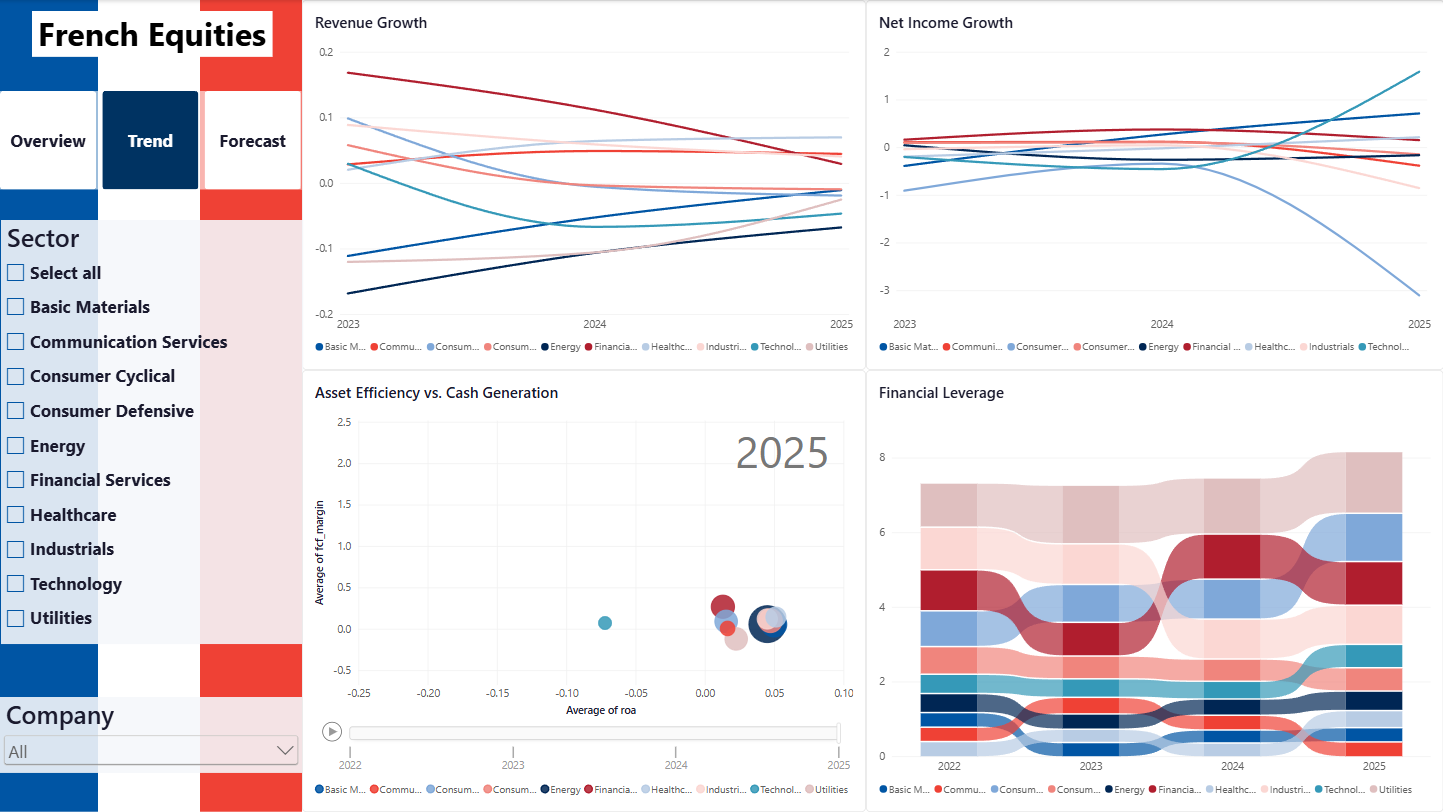

The dashboard page shown, as its layout file describes it:
{"tool":"powerbi","page":{"name":"Trend","canvas":[1920,1080],"ordinal":1},"visuals":[{"type":"lineChart","title":"Net Income Growth","fields":{"Category":["financial_ratios.fiscal_year"],"Series":["companies.sector"],"Y":["Avg(financial_ratios.net_income_growth_yoy)"]},"box":[1151.8,0,768.8,492.1],"z":0},{"type":"lineChart","title":"Revenue Growth","fields":{"Category":["financial_ratios.fiscal_year"],"Series":["companies.sector"],"Y":["Avg(financial_ratios.revenue_growth_yoy)"]},"box":[401.7,0,750.1,492.1],"z":1000},{"type":"shape","box":[0,0,135,1079.6],"z":2000},{"type":"shape","box":[129.8,0,135.7,1079.6],"z":3000},{"type":"shape","box":[265.5,0,135.7,1079.6],"z":4000},{"type":"pageNavigator","box":[0,121,401.2,131.3],"z":5000},{"type":"textbox","box":[42.3,14.6,319.5,61.3],"z":6000},{"type":"slicer","fields":{"Values":["companies.company_name"]},"box":[0,927,401.7,101.1],"z":7000},{"type":"slicer","fields":{"Values":["companies.sector"]},"box":[1.3,292.6,401.7,563.9],"z":8000},{"type":"scatterChart","title":"Asset Efficiency vs. Cash Generation","fields":{"Play":["financial_ratios.fiscal_year"],"Series":["companies.sector"],"Size":["Avg(companies.market_cap)"],"X":["Avg(financial_ratios.roa)"],"Y":["Avg(financial_ratios.fcf_margin)"]},"box":[401.7,492.1,750.1,587.9],"z":9000},{"type":"ribbonChart","title":"Financial Leverage","fields":{"Category":["financial_ratios.fiscal_year"],"Series":["companies.sector"],"Y":["Avg(financial_ratios.debt_to_equity)"]},"box":[1152,492,768,588],"z":10000}]}

Visuals, with their boxes in screenshot pixels (x1, y1, x2, y2), scaled from the page's 1920x1080 canvas onto the 1443x812 screenshot:
"Net Income Growth" lineChart: (866, 0, 1442, 370)
"Revenue Growth" lineChart: (302, 0, 866, 370)
shape: (0, 0, 101, 811)
shape: (98, 0, 200, 811)
shape: (200, 0, 302, 811)
pageNavigator: (0, 91, 302, 190)
textbox: (32, 11, 272, 57)
slicer - companies.company_name: (0, 697, 302, 773)
slicer - companies.sector: (1, 220, 303, 644)
"Asset Efficiency vs. Cash Generation" scatterChart: (302, 370, 866, 811)
"Financial Leverage" ribbonChart: (866, 370, 1442, 811)
